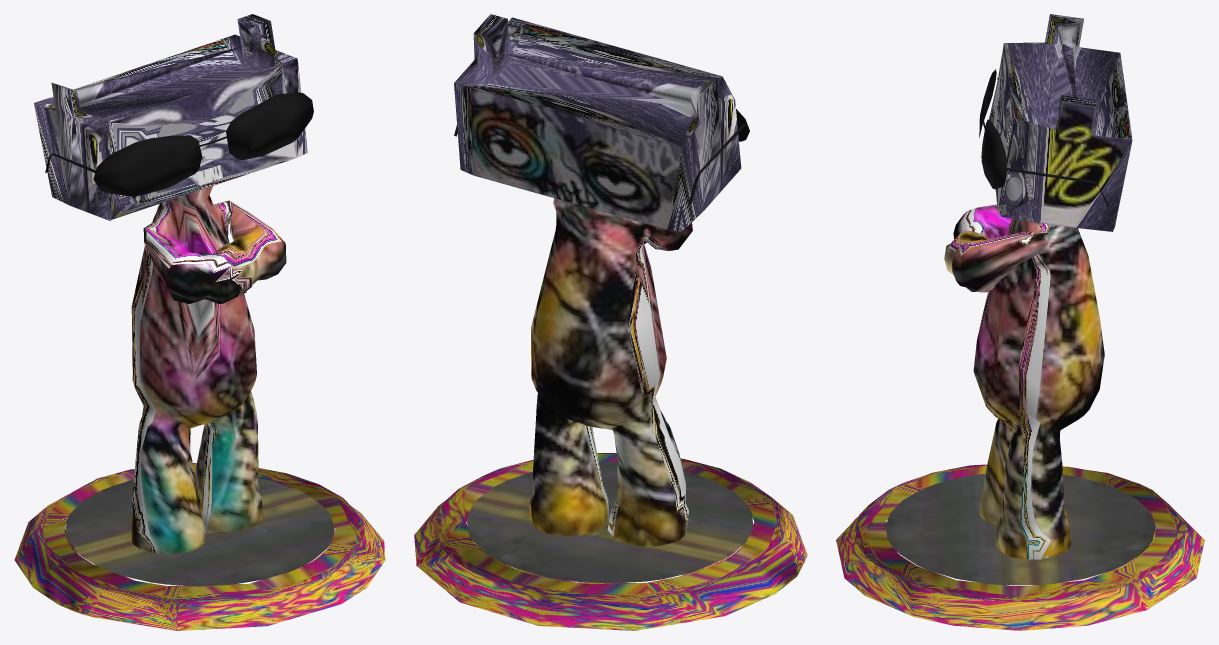
3 views of the same model, side by side, from view 1: azimuth 30°, elevation 25°; view 2: azimuth 150°, elevation 25°; view 3: azimuth 270°, elevation 25° (orthographic). The views are drawn at different scales.
Size of the model in its own units: 1.45 by 2.13 by 1.43.
6 materials, 4 textured.
